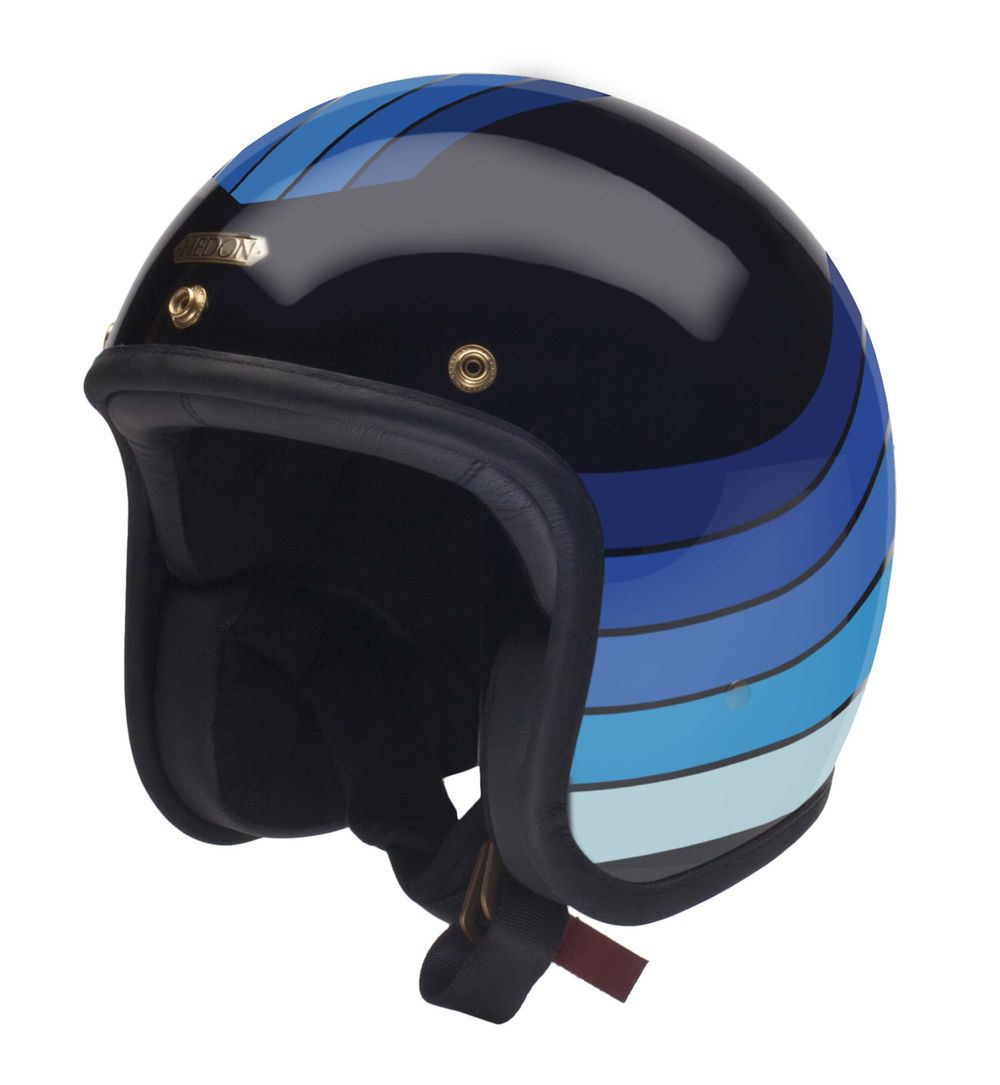with_helmet: (76, 57, 912, 925)
